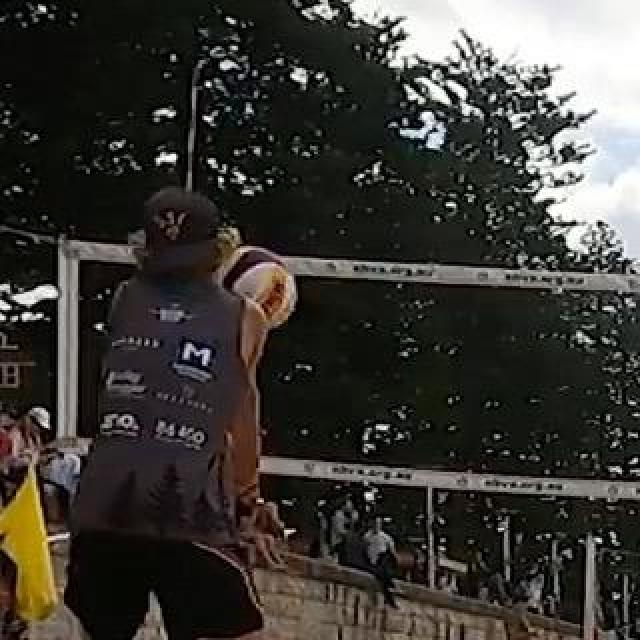volleyball: (209, 246, 299, 332)
